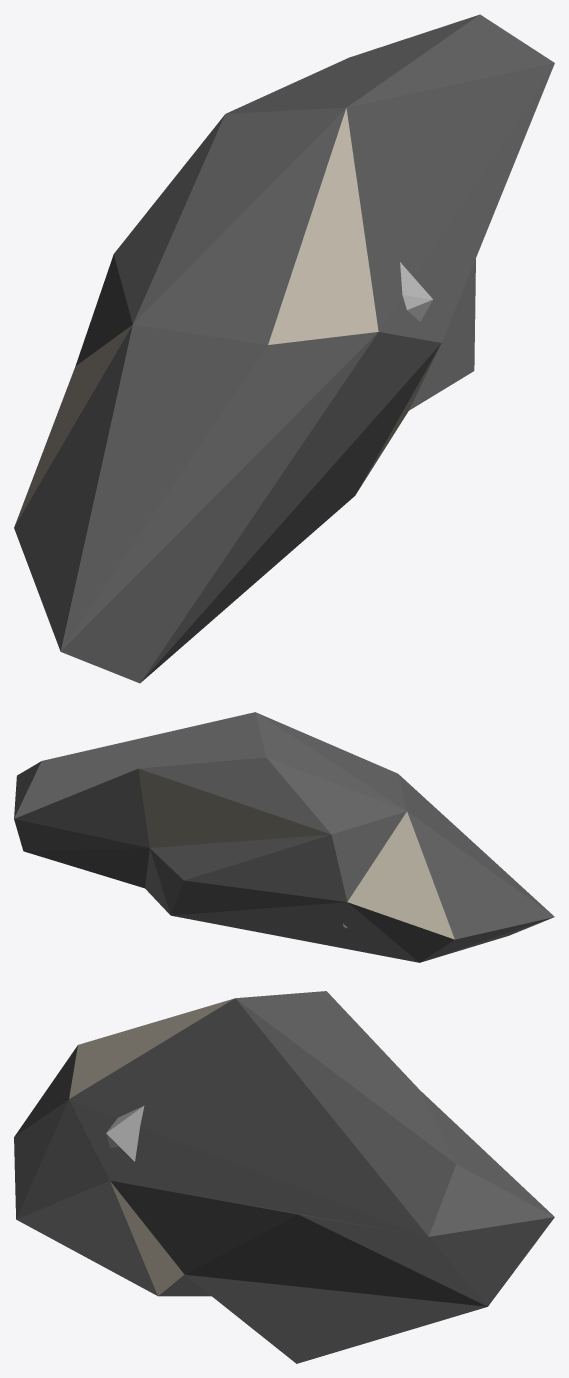
The model's file is low_poly_rocks-002.fbx.
3 renders of one model, top to bottom at view 1: azimuth 30°, elevation 25°; view 2: azimuth 150°, elevation 25°; view 3: azimuth 270°, elevation 25°, orthographic. The views are drawn at different scales.
Parts seen in each view (by area): view 1: Rock 3, Rock 2; view 2: Rock 3; view 3: Rock 3, Rock 2.
Part boxes in pixels (x1,y1,x2,y2): Rock 3: (14,14,554,683); Rock 2: (400,262,435,321); Rock 3: (14,712,554,962); Rock 3: (14,991,554,1363); Rock 2: (106,1106,144,1161).
Size of the model in its own units: 1416 by 768 by 1018.
